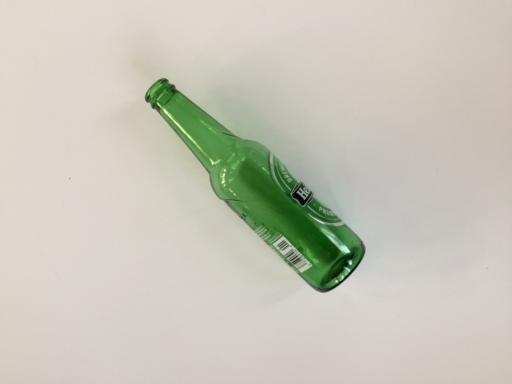botolkaca: (145, 77, 367, 292)
